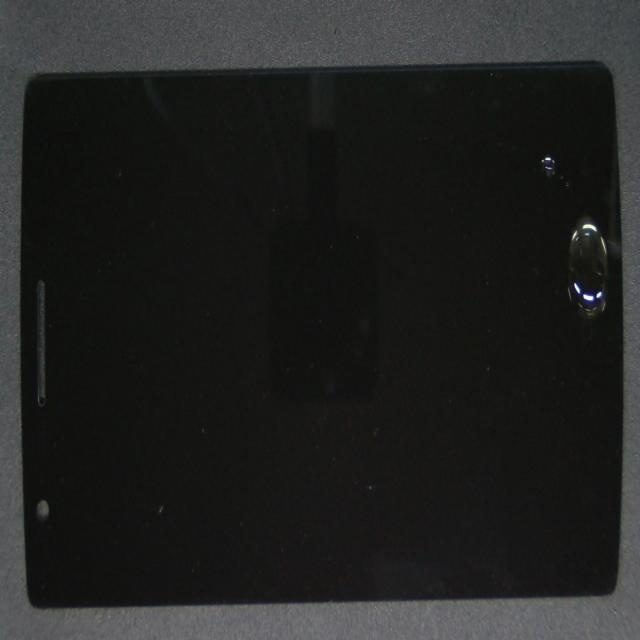oil: (272, 102, 640, 424), (272, 102, 640, 305)
